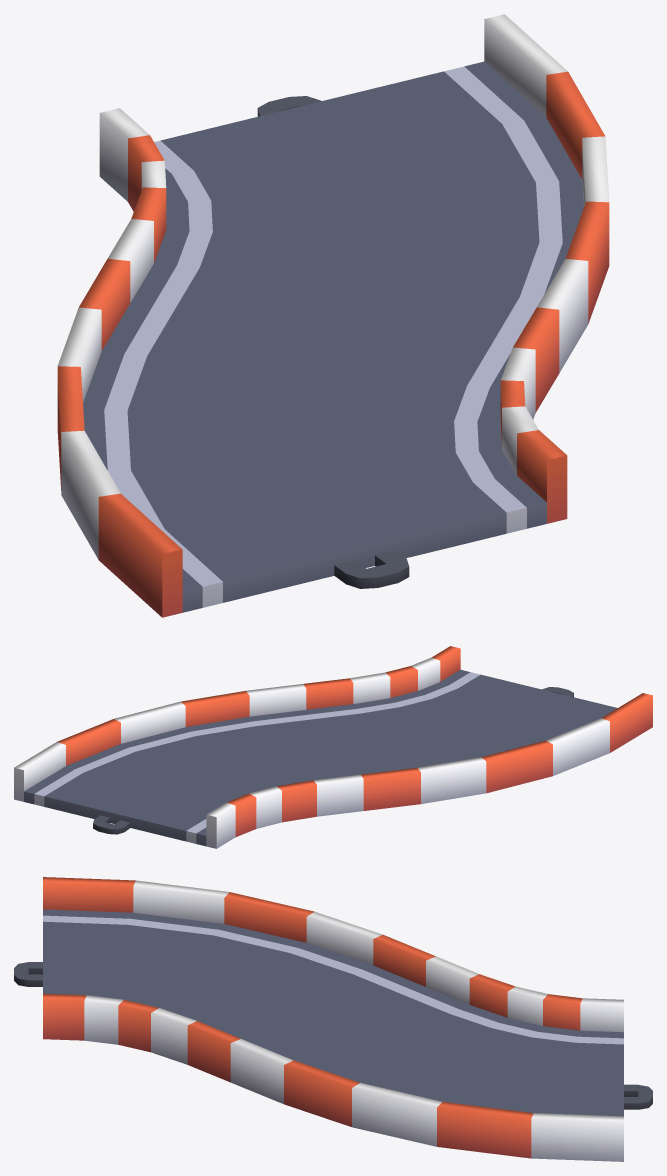
Rendered from kenney-toy-car-track-road-wide-curve.glb.
3 views of the same model, one above another, from view 1: azimuth 30°, elevation 25°; view 2: azimuth 150°, elevation 25°; view 3: azimuth 270°, elevation 25° (orthographic). The views are drawn at different scales.
Visible parts, largest first — view 1: track-road-wide-curve; view 2: track-road-wide-curve; view 3: track-road-wide-curve.
Part boxes in pixels (x1=…): track-road-wide-curve: x1=57, y1=14, x2=609, y2=617; track-road-wide-curve: x1=14, y1=646, x2=652, y2=848; track-road-wide-curve: x1=14, y1=877, x2=652, y2=1161.
Size of the model in its own units: 4 by 0.2997 by 4.4.
1 material, 1 textured.
